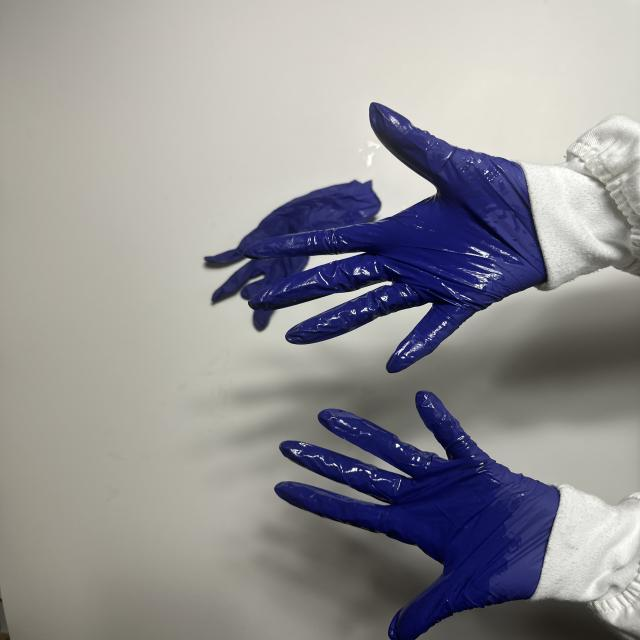gloves_contaminated: (245, 104, 550, 372), (275, 392, 559, 640)
